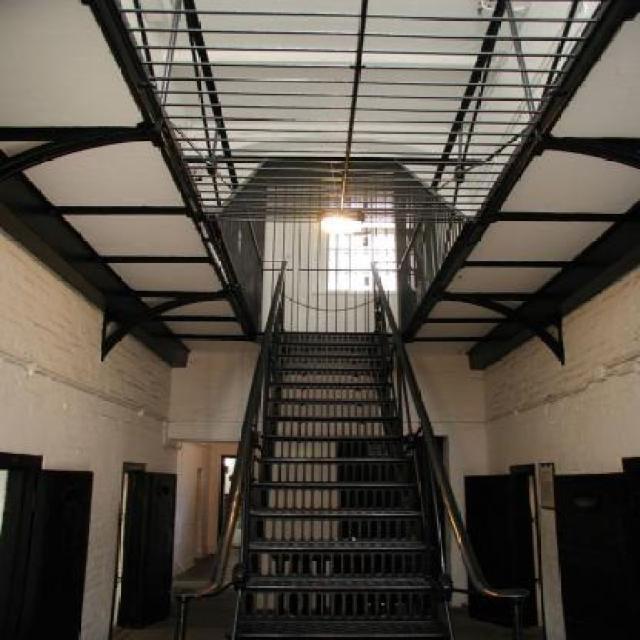stair: (235, 335, 436, 640)
